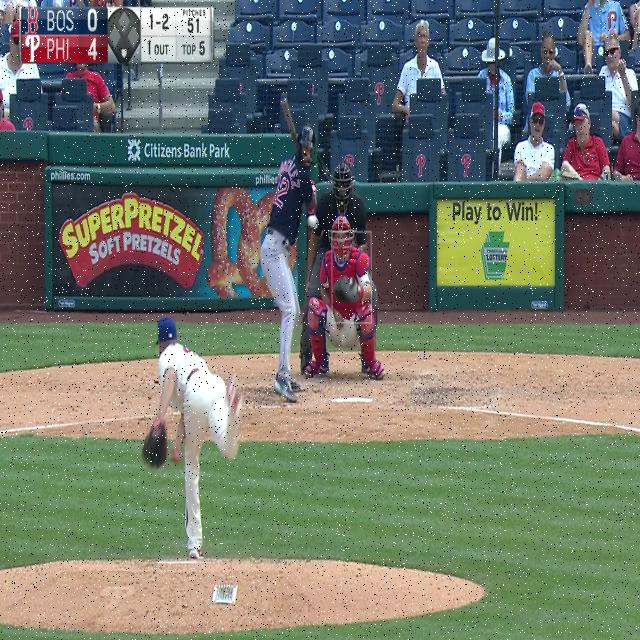baseball: (308, 215, 316, 229)
